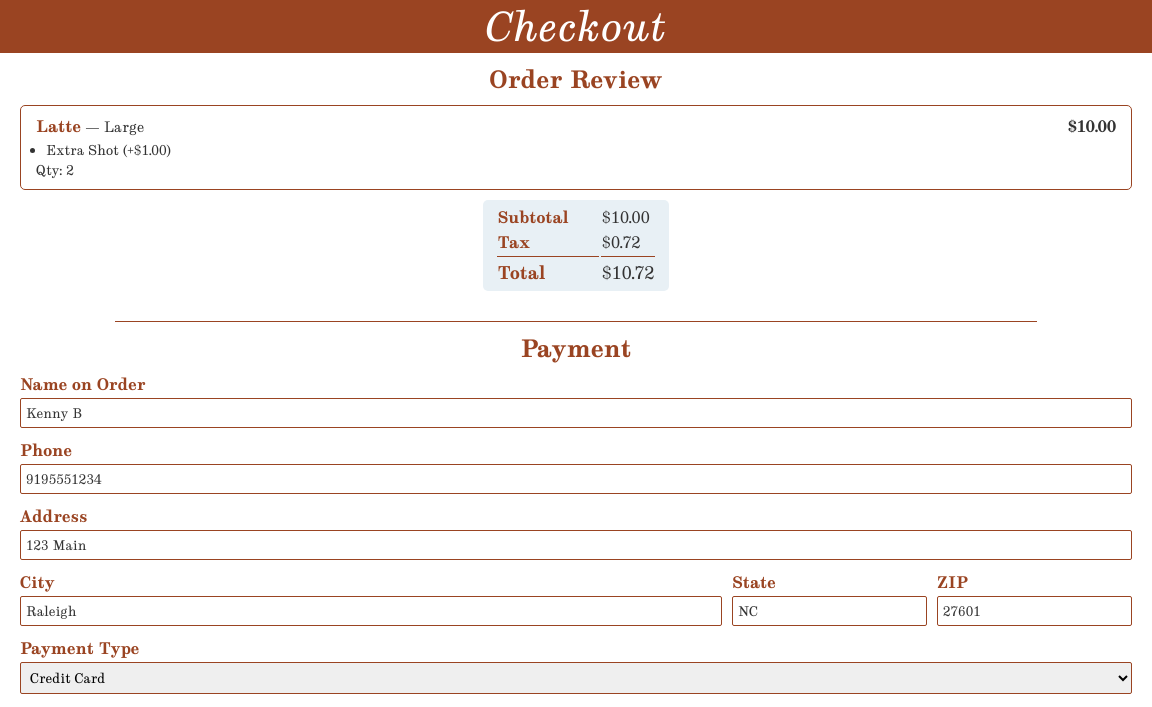
Scenario: Checkout › switches to other payment details field
Select "Other" in the dropdown labelled "Payment Type": [576, 678] box [20,662,1132,694]
(page scrolled)
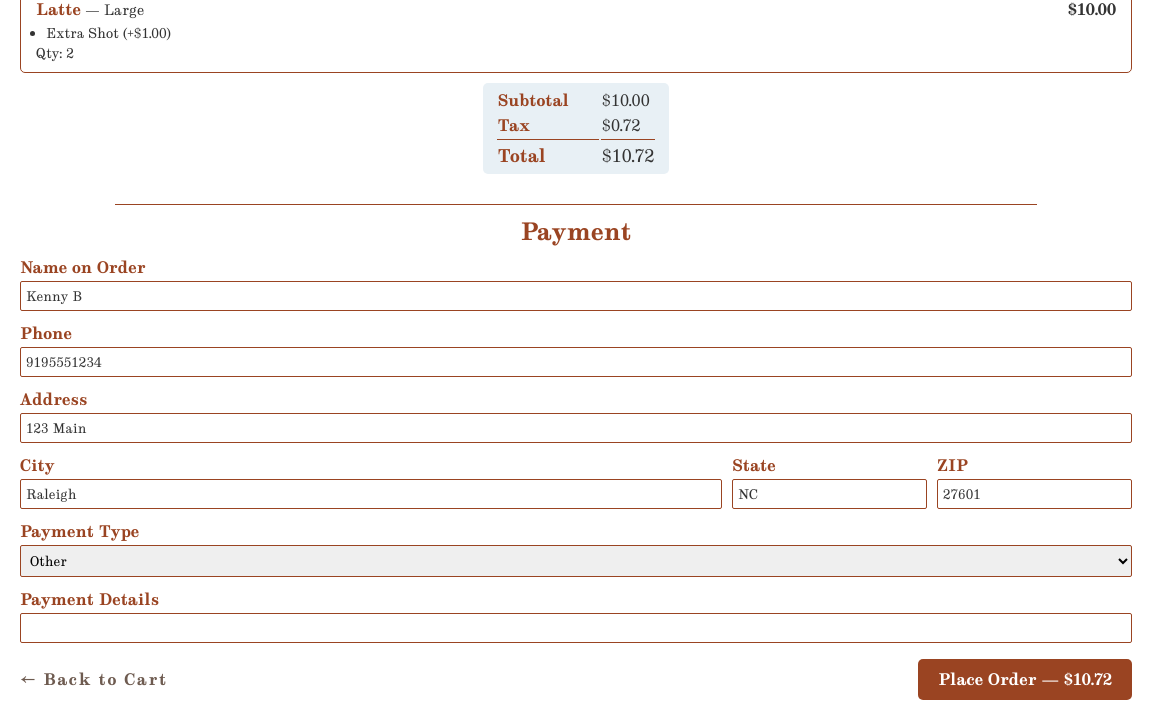
Now the field labelled "Payment Details" is shown, box [20,613,1132,643]
